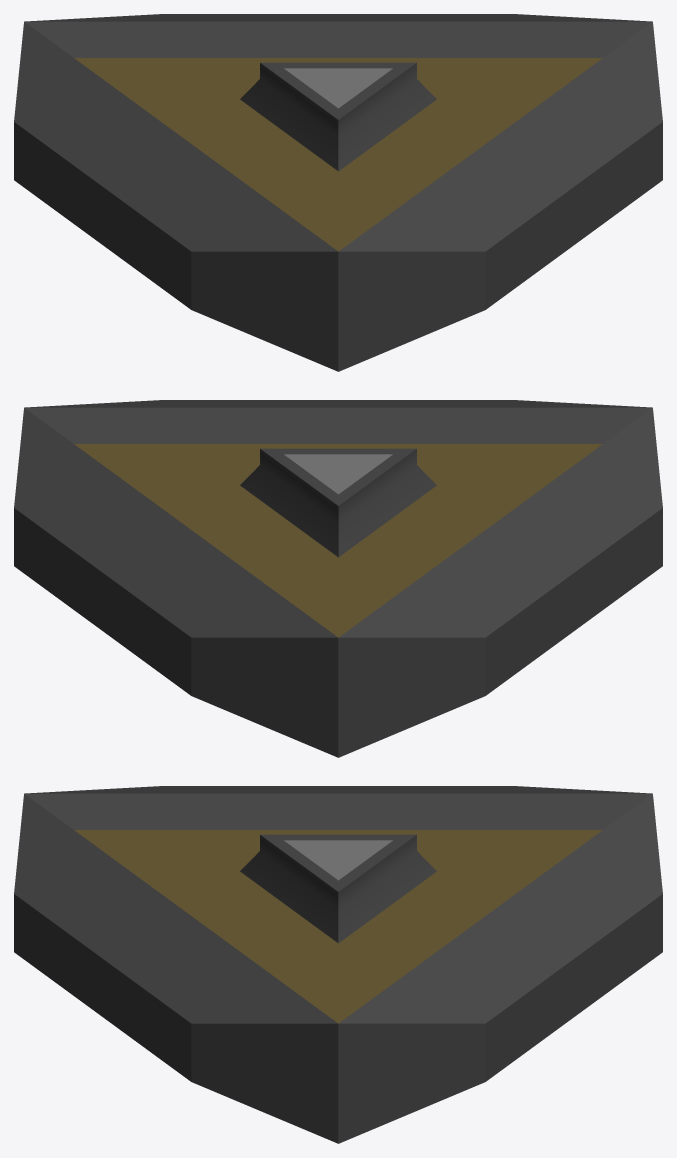
The model's file is Shield Emitter.fbx.
3 views of the same model, one above another, from view 1: azimuth 30°, elevation 25°; view 2: azimuth 150°, elevation 25°; view 3: azimuth 270°, elevation 25° (orthographic).
Parts seen in each view (by area): view 1: Shield_Emitter; view 2: Shield_Emitter; view 3: Shield_Emitter.
Part boxes in pixels (x1,y1,x2,y2): Shield_Emitter: (14,14,662,371); Shield_Emitter: (14,400,662,757); Shield_Emitter: (14,786,662,1143).
Size of the model in its own units: 1.44 by 0.3427 by 1.47.
